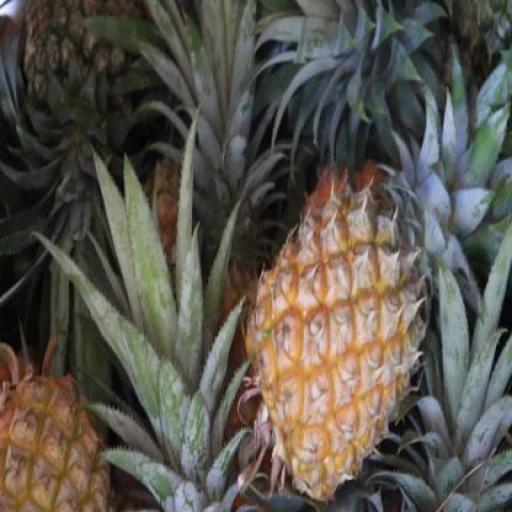Pineapple - v8 v1: (248, 180, 450, 500)
